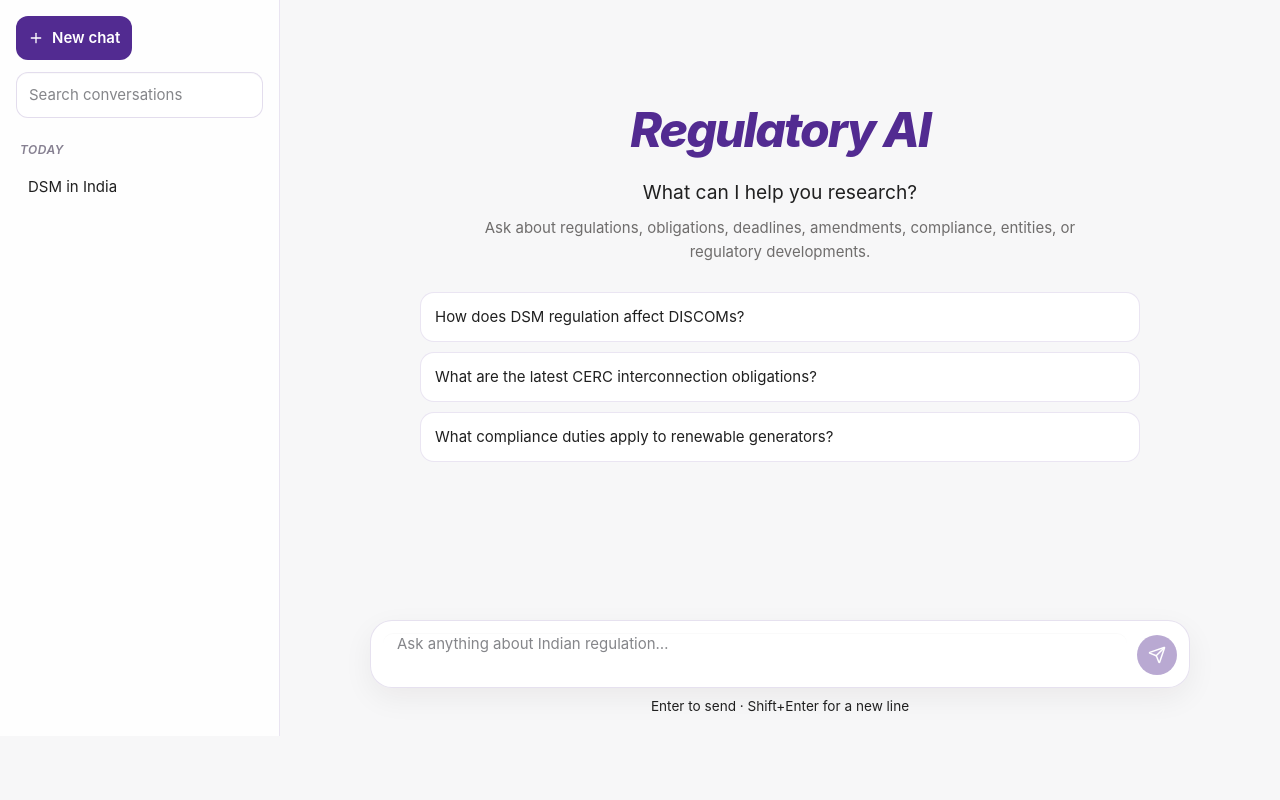
Test: AskConversationWorkspace › starts a new chat without sending and focuses the composer
The image size is (1280, 800).
Click the button "DSM in India": (140, 187) [16,165,263,209]
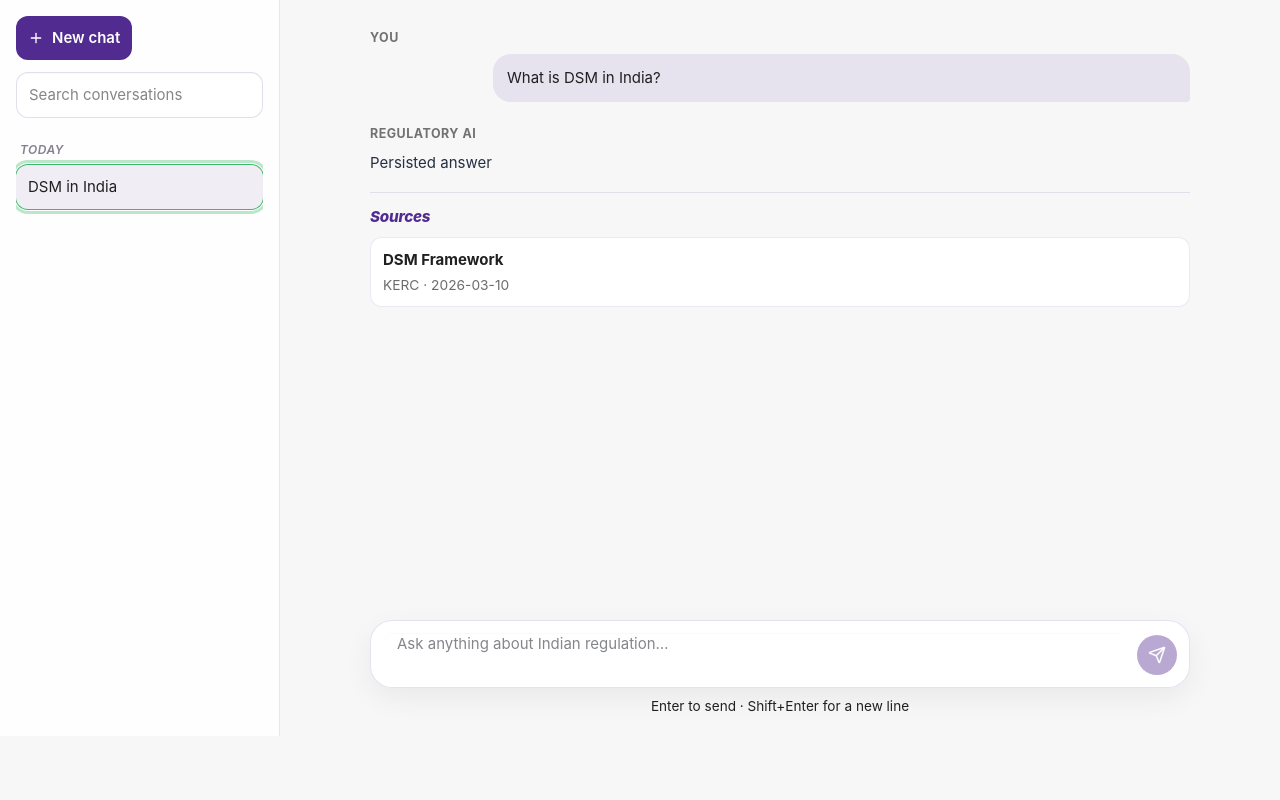
Check: the text "Persisted answer" is shown, box [370,153,492,172]
Click the button "New chat": (74, 38) [16,16,132,60]
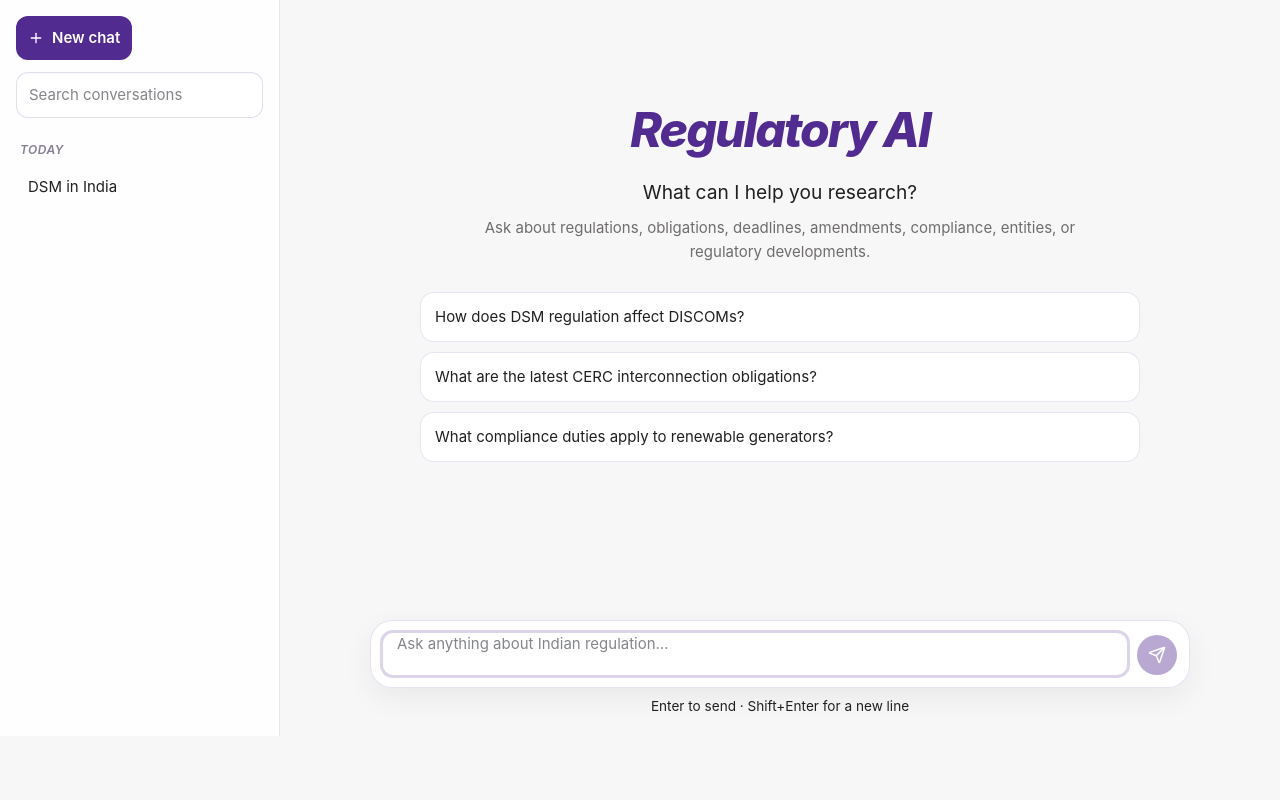
Check: the heading "Regulatory AI" is shown, box [630,100,930,159]
Check: the text "Persisted answer" is gone
